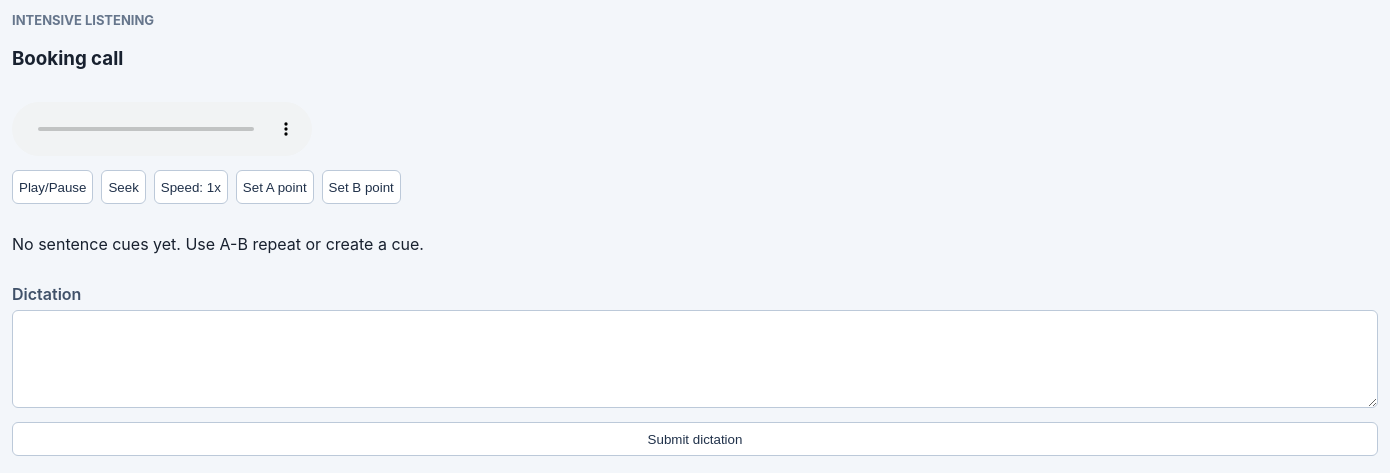
Test case: intensive study components › shows the active intensive listening speed after toggling slow playback
What coordinates should you click on to do the following:
click the button "Speed: 1x"
I would click on:
 (191, 187)
Its box is x1=154 y1=170 x2=228 y2=204.
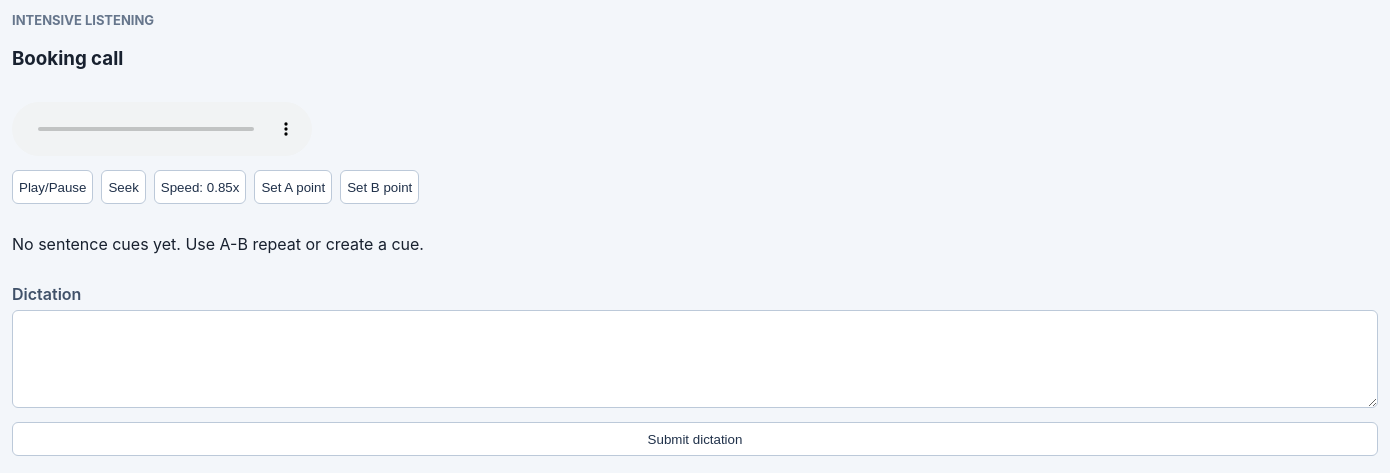
expect the button "Speed: 0.85x" is shown: met, box x1=154 y1=170 x2=246 y2=204
